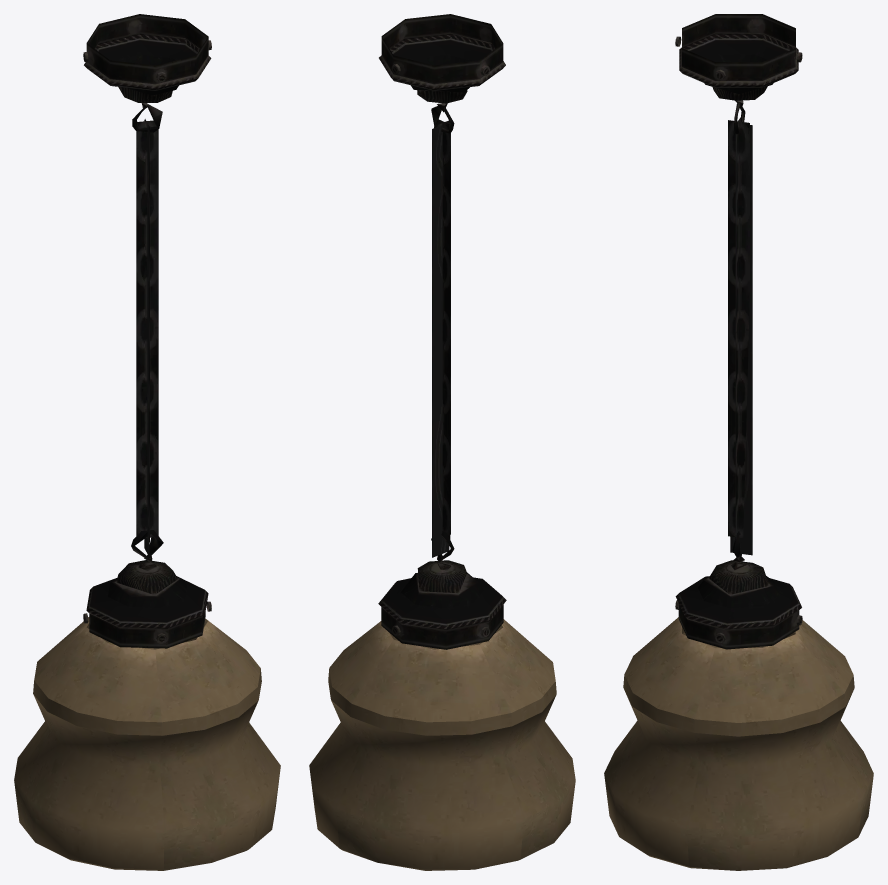
3 renders of one model, left to right at view 1: azimuth 30°, elevation 25°; view 2: azimuth 150°, elevation 25°; view 3: azimuth 270°, elevation 25°, orthographic.
Visible parts, largest first — view 1: Bistro_Research_Interior_paris_building_01_interior_2332; view 2: Bistro_Research_Interior_paris_building_01_interior_2332; view 3: Bistro_Research_Interior_paris_building_01_interior_2332.
Part boxes in pixels (box(x1,y1,x2,y2)): Bistro_Research_Interior_paris_building_01_interior_2332: box(14, 14, 280, 870); Bistro_Research_Interior_paris_building_01_interior_2332: box(309, 14, 575, 870); Bistro_Research_Interior_paris_building_01_interior_2332: box(604, 14, 873, 870).
Bounding box in the file's own units: 0.2124 × 0.7098 × 0.2124.
Materials: 1 (1 with a texture image).
